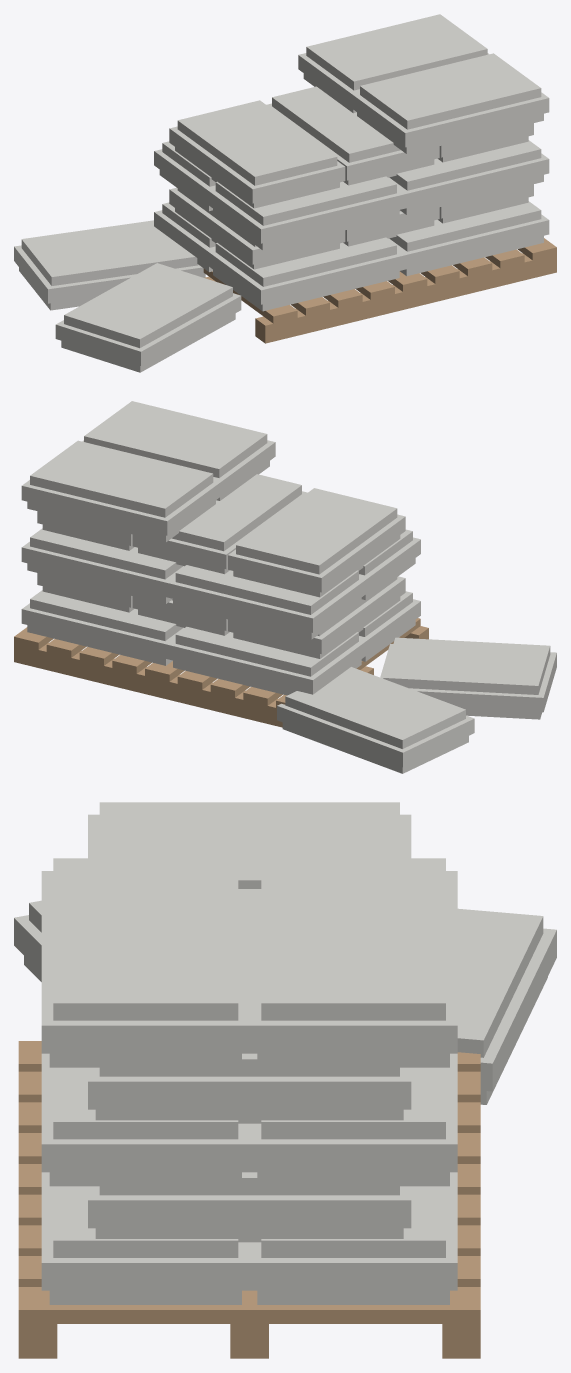
File: Cover_Cement_Bags.fbx
3 views of the same model, one above another, from view 1: azimuth 30°, elevation 25°; view 2: azimuth 150°, elevation 25°; view 3: azimuth 270°, elevation 25° (orthographic). The views are drawn at different scales.
Visible parts, largest first — view 1: Cover_Cement_Bags; view 2: Cover_Cement_Bags; view 3: Cover_Cement_Bags.
Boxes of the visible parts, x1,y1,x2,y2 form: Cover_Cement_Bags: [14, 14, 556, 372]; Cover_Cement_Bags: [14, 401, 556, 773]; Cover_Cement_Bags: [14, 802, 556, 1358].
Bounding box in the file's own units: 2.64 × 1 × 1.41.
